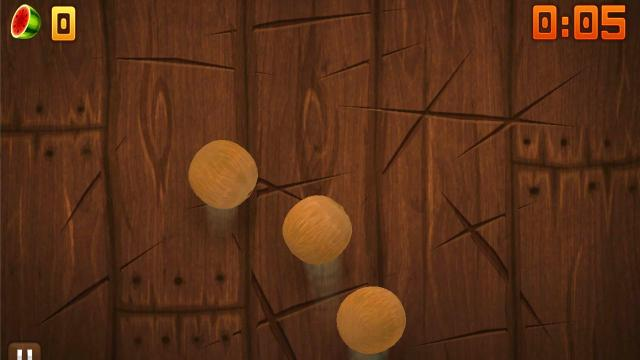fruit: (336, 284, 408, 354), (282, 194, 354, 264), (188, 139, 258, 209)
ignore: (9, 3, 43, 41)
